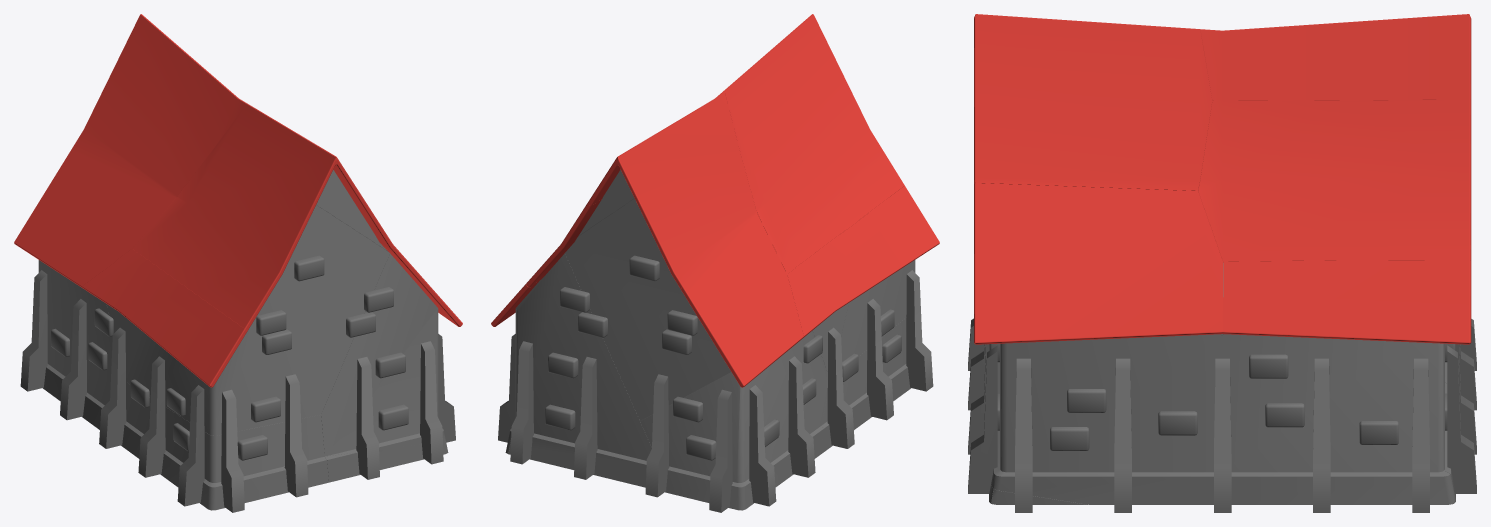
File: Building_001_Broke.fbx
3 renders of one model, left to right at view 1: azimuth 30°, elevation 25°; view 2: azimuth 150°, elevation 25°; view 3: azimuth 270°, elevation 25°, orthographic. The views are drawn at different scales.
Visible parts, largest first — view 1: Building.001_0_Roof_cell, Building.001_0_Base_cell.002, Building.001_0_Roof_cell.002, Building.001_0_Roof_cell.006, Building.001_0_Base_cell.007, Building.001_0_Roof_cell.005, Building.001_0_Base_cell.006, Building.001_0_Base_cell.004, Building.001_0.011, Building.001_0.013, Building.001_0.004, Building.001_0.010 (+13 smaller); view 2: Building.001_0_Roof_cell, Building.001_0_Roof_cell.002, Building.001_0_Base_cell, Building.001_0_Base_cell.003, Building.001_0_Base_cell.004, Building.001_0_Roof_cell.006, Building.001_0_Roof_cell.005, Building.001_0.013, Building.001_0.011, Building.001_0.002, Building.001_0.006, Building.001_0_Base_cell.002 (+14 smaller); view 3: Building.001_0_Roof_cell.003, Building.001_0_Roof_cell, Building.001_0_Roof_cell.004, Building.001_0_Base_cell.005, Building.001_0_Base_cell.007, Building.001_0_Roof_cell.002, Building.001_0_Roof_cell.001, Building.001_0.007, Building.001_0.009, Building.001_0.010, Building.001_0.006, Building.001_0.008 (+7 smaller).
Part boxes in pixels (x1,y1,x2,y2): Building.001_0_Roof_cell: (132, 104, 395, 330); Building.001_0_Base_cell.002: (126, 205, 389, 435); Building.001_0_Roof_cell.002: (71, 14, 247, 197); Building.001_0_Roof_cell.006: (14, 149, 175, 287); Building.001_0_Base_cell.007: (321, 253, 445, 456); Building.001_0_Roof_cell.005: (82, 249, 247, 387); Building.001_0_Base_cell.006: (121, 382, 328, 510); Building.001_0_Base_cell.004: (38, 260, 112, 429); Building.001_0.011: (138, 356, 204, 506); Building.001_0.013: (20, 270, 86, 420); Building.001_0.004: (221, 374, 308, 512); Building.001_0.010: (356, 341, 443, 479); Building.001_0_Roof_cell: (724, 14, 904, 273); Building.001_0_Roof_cell.002: (588, 91, 756, 292); Building.001_0_Base_cell: (565, 198, 730, 420); Building.001_0_Base_cell.003: (508, 253, 651, 487); Building.001_0_Base_cell.004: (640, 331, 827, 510); Building.001_0_Roof_cell.006: (678, 213, 803, 387); Building.001_0_Roof_cell.005: (787, 186, 939, 337); Building.001_0.013: (749, 356, 815, 506); Building.001_0.011: (867, 270, 933, 420); Building.001_0.002: (645, 374, 732, 512); Building.001_0.006: (510, 341, 597, 479); Building.001_0_Base_cell.002: (841, 260, 915, 361); Building.001_0_Roof_cell.003: (1198, 99, 1471, 262); Building.001_0_Roof_cell: (974, 14, 1212, 190); Building.001_0_Roof_cell.004: (974, 183, 1223, 344); Building.001_0_Base_cell.005: (1221, 334, 1455, 504); Building.001_0_Base_cell.007: (992, 334, 1221, 504); Building.001_0_Roof_cell.002: (1200, 14, 1471, 100); Building.001_0_Roof_cell.001: (1223, 260, 1471, 344); Building.001_0.007: (1313, 358, 1429, 512); Building.001_0.009: (1015, 358, 1131, 512); Building.001_0.010: (968, 344, 997, 493); Building.001_0.006: (1447, 344, 1476, 493); Building.001_0.008: (1214, 358, 1231, 512).
Size of the model in its own units: 6.22 by 7.21 by 7.98.
